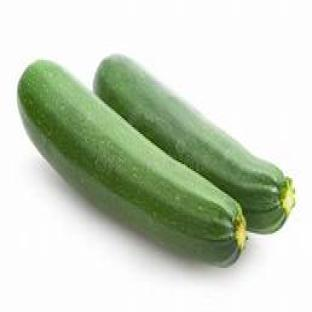Zucchini: (19, 60, 245, 266), (95, 57, 295, 232)
